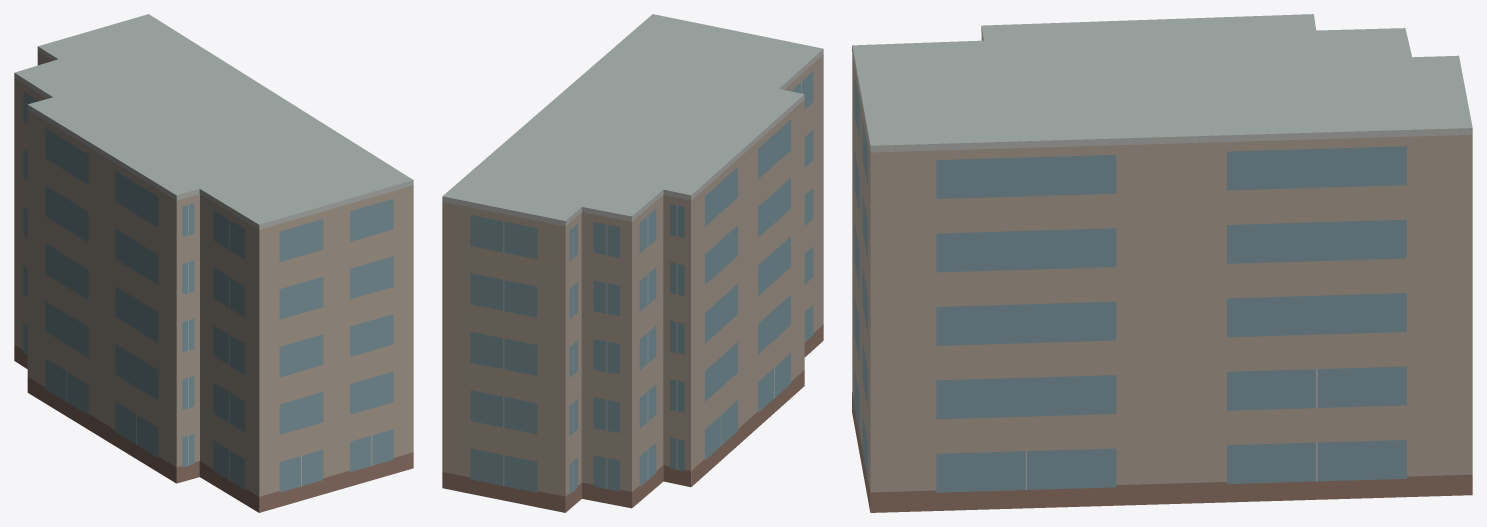
The model's file is survey-upis-32723123.glb.
3 renders of one model, left to right at view 1: azimuth 30°, elevation 25°; view 2: azimuth 150°, elevation 25°; view 3: azimuth 270°, elevation 25°, orthographic. The views are drawn at different scales.
Visible parts, largest first — view 1: survey-upis-32723123.tmp; view 2: survey-upis-32723123.tmp; view 3: survey-upis-32723123.tmp.
Boxes of the visible parts, x1,y1,x2,y2 form: survey-upis-32723123.tmp: [14, 14, 413, 512]; survey-upis-32723123.tmp: [442, 14, 823, 512]; survey-upis-32723123.tmp: [852, 14, 1472, 512].
Bounding box in the file's own units: 10.33 × 13.4 × 20.54.
